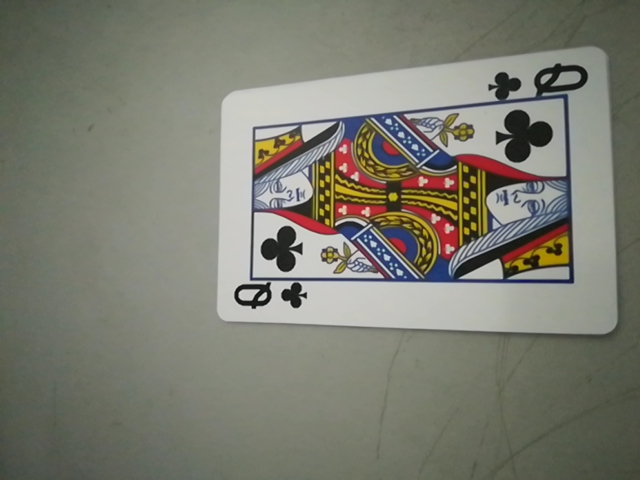mh q: (486, 58, 591, 104), (228, 276, 311, 320)
